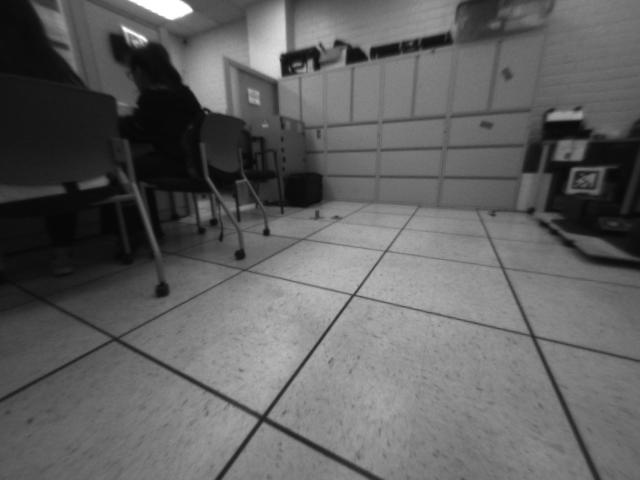X: (306, 208, 327, 221)
